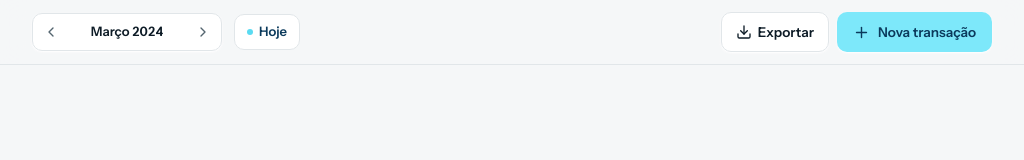
Test case: Header › prevMonth when not January
Expected: the text "Março 2024" is shown, [91,23,163,39]
Click the button named "Mês anterior" at (51, 32), box [37,18,65,46]
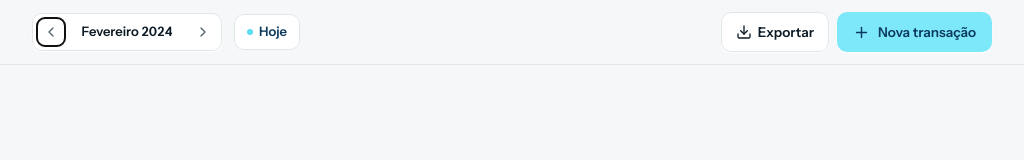
Result: the text "Fevereiro 2024" is shown at [82,23,173,39]
